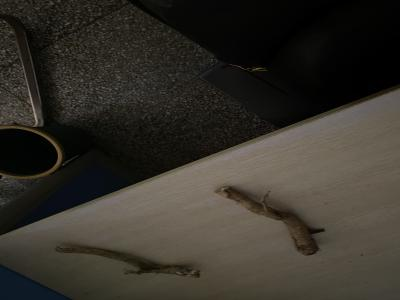Root: (214, 187, 325, 256), (55, 247, 200, 278)
